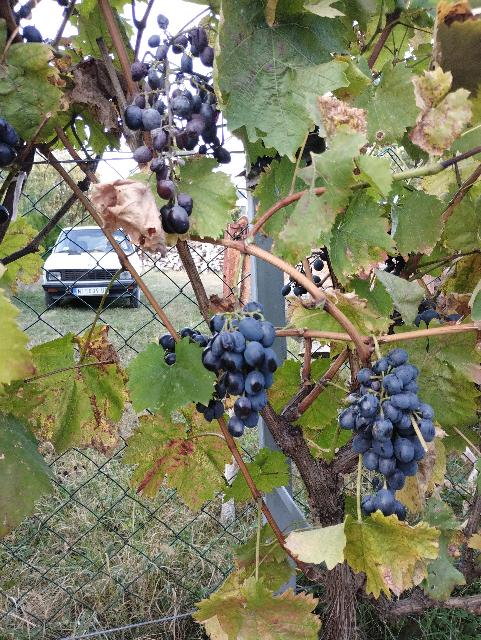grapes: (339, 349, 435, 521), (202, 301, 279, 438)
